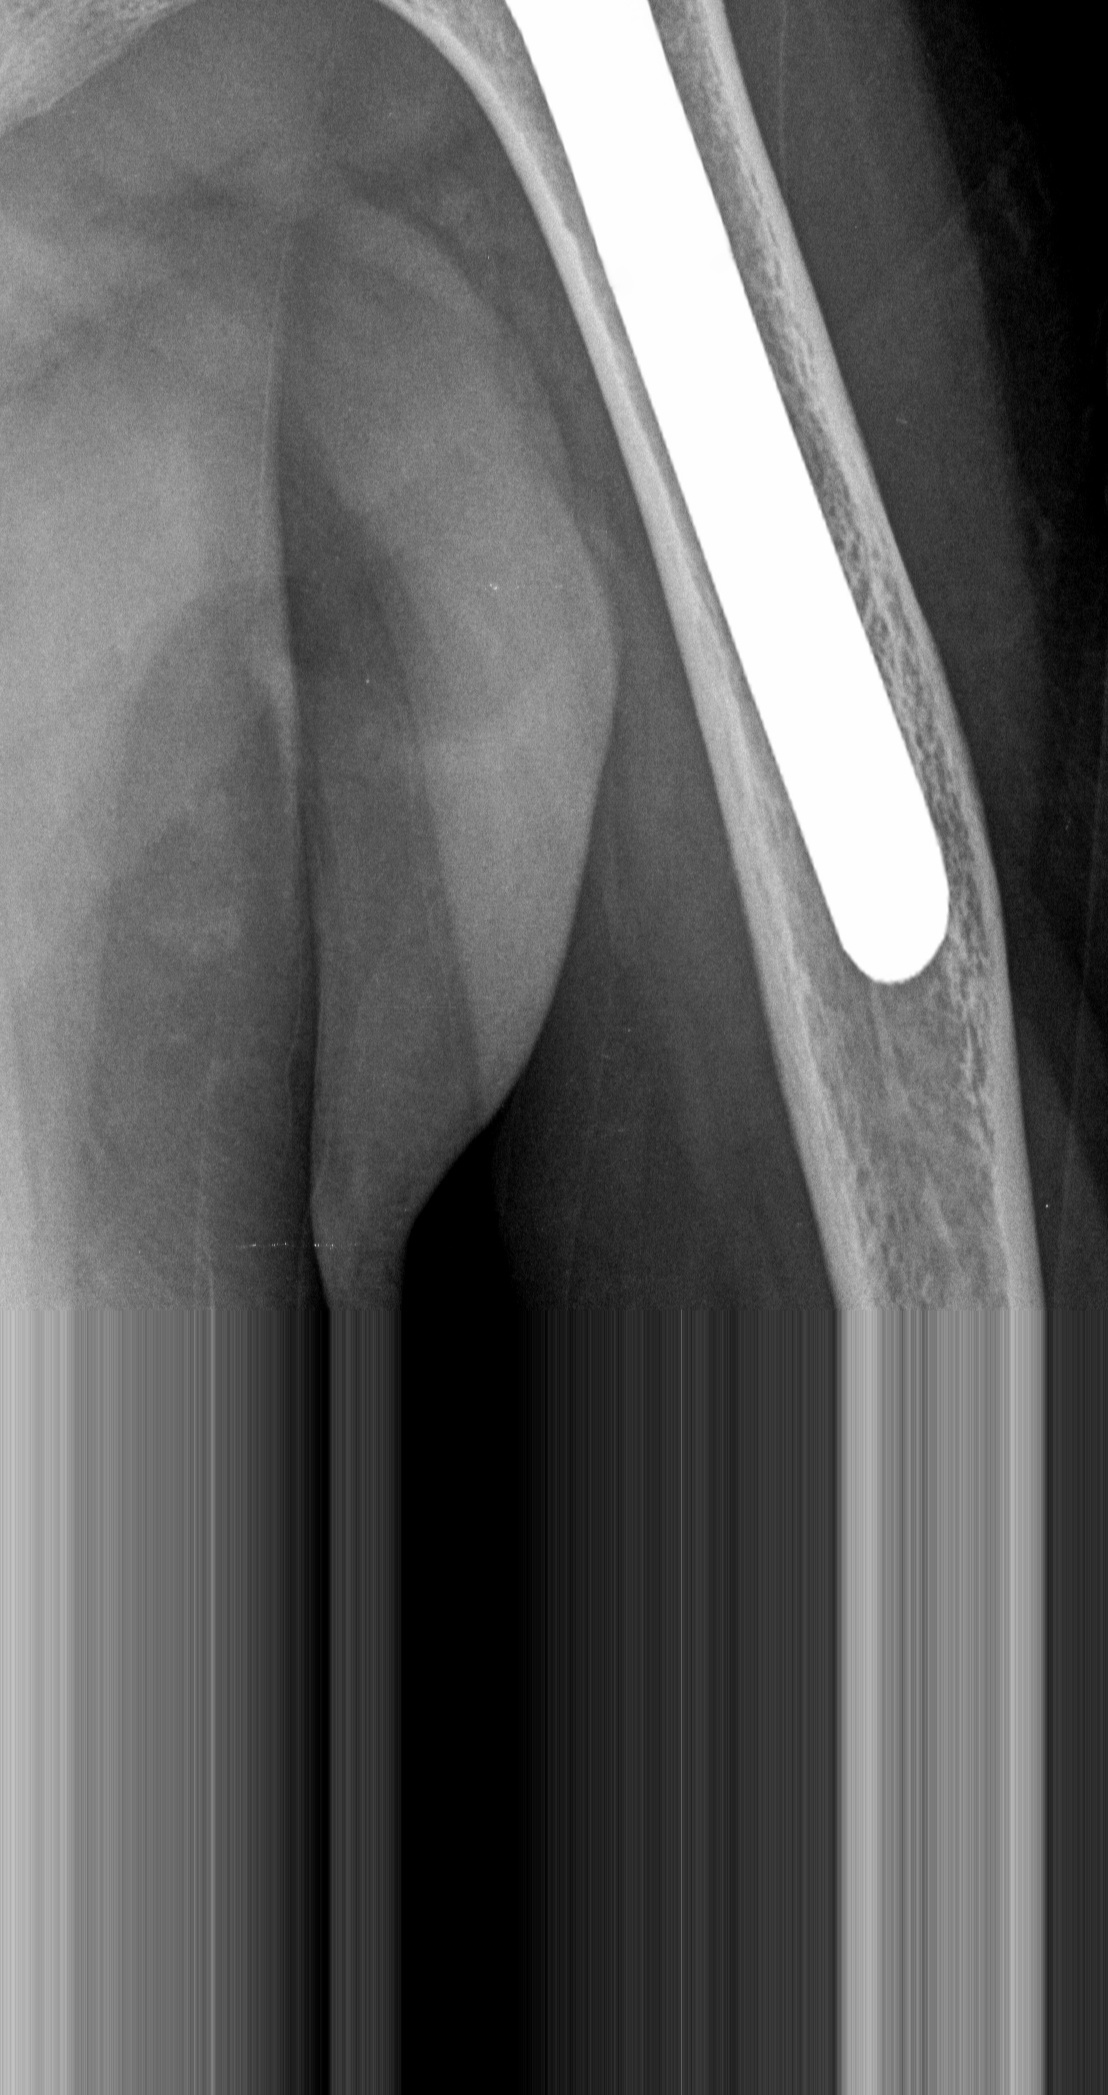Shoulder-Olympia-Wright: (485, 1, 990, 1003)
